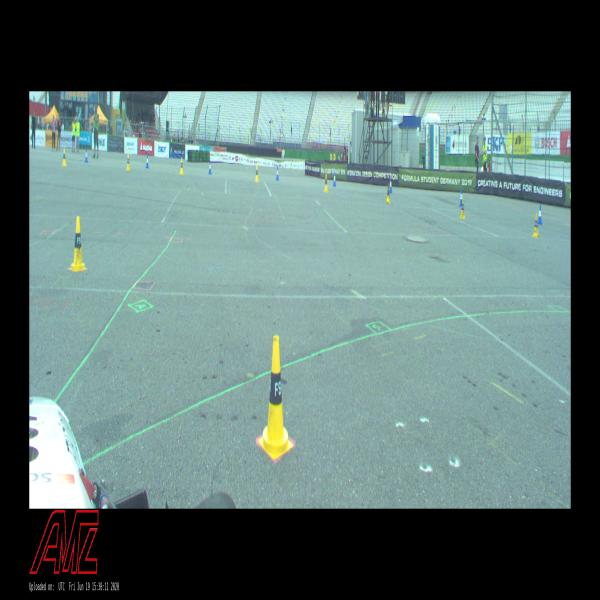blue_cone: (538, 205, 542, 225), (389, 178, 393, 193), (208, 161, 212, 174), (459, 189, 462, 206), (333, 172, 336, 187), (85, 148, 88, 162), (276, 166, 279, 180), (146, 155, 149, 168)
yellow_cone: (258, 336, 293, 459), (70, 216, 86, 270), (532, 214, 539, 238), (460, 198, 465, 219), (62, 149, 67, 166), (324, 173, 328, 192), (386, 184, 390, 203), (126, 153, 130, 171), (255, 164, 259, 182), (180, 158, 184, 175)
